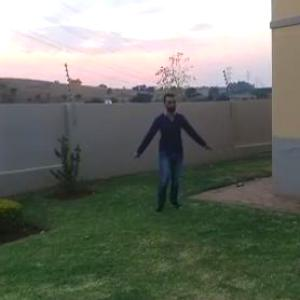land: (124, 91, 215, 219)
